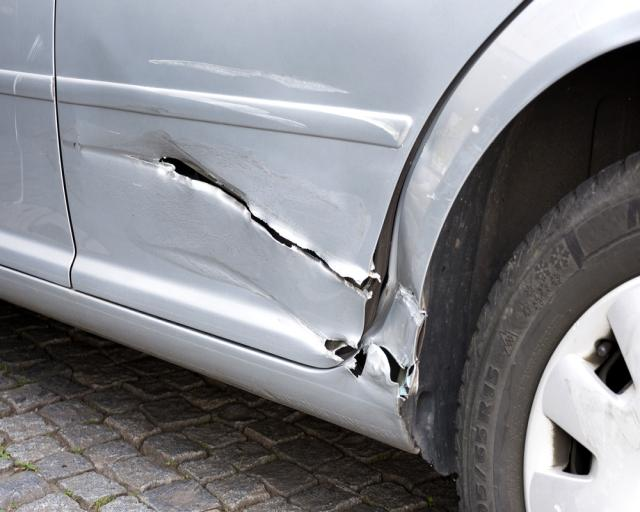crack: (155, 155, 368, 294), (377, 343, 407, 384), (324, 339, 357, 361), (349, 347, 368, 376)
scratch: (107, 133, 374, 337), (146, 58, 356, 96), (164, 90, 310, 129), (12, 35, 41, 207)
